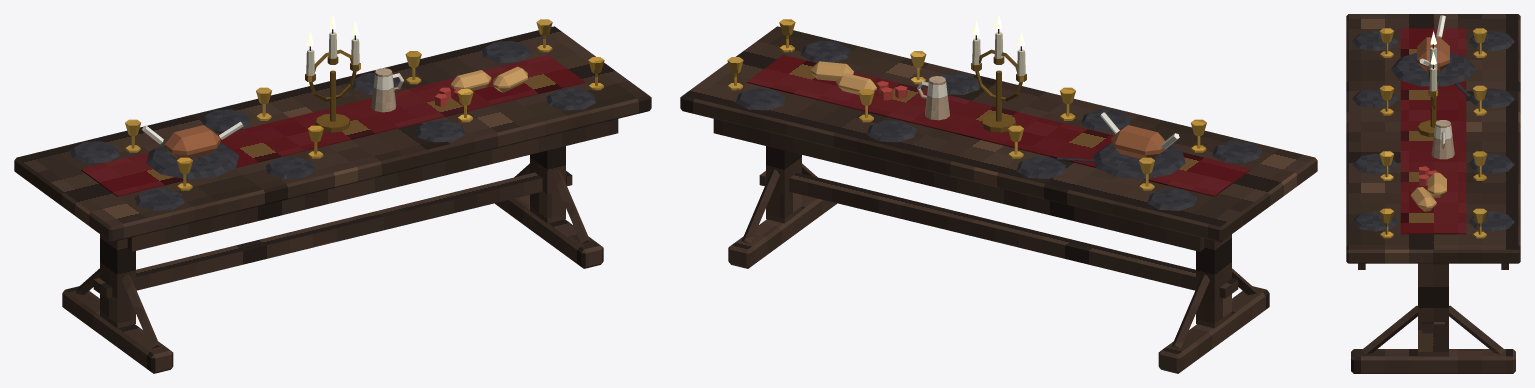
File: feast_table.glb
The picture shows the model from 3 angles, left to right: view 1: azimuth 30°, elevation 25°; view 2: azimuth 150°, elevation 25°; view 3: azimuth 270°, elevation 25°; orthographic projection. The views are drawn at different scales.
Parts seen in each view (by area): view 1: body; view 2: body; view 3: body.
Boxes of the visible parts, x1,y1,x2,y2 form: body: (14, 19, 651, 373); body: (680, 19, 1317, 373); body: (1346, 14, 1520, 373).
Bounding box in the file's own units: 2.9 × 1.39 × 0.9.
14 materials, 7 textured.
